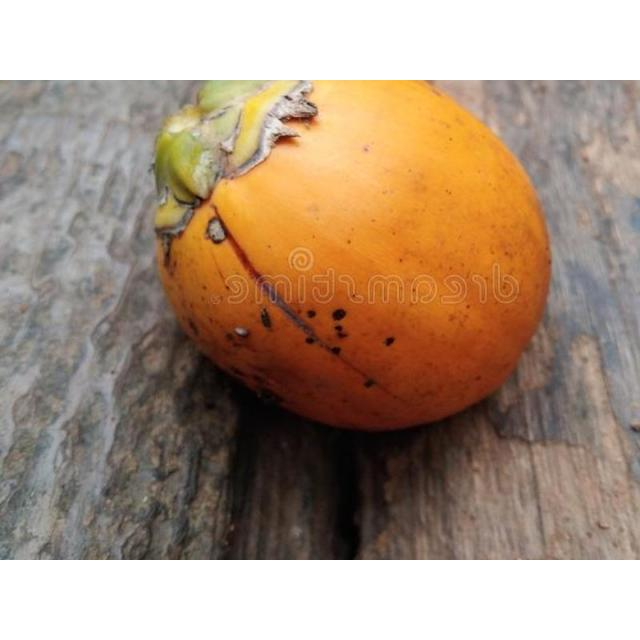good: (152, 80, 553, 434)
